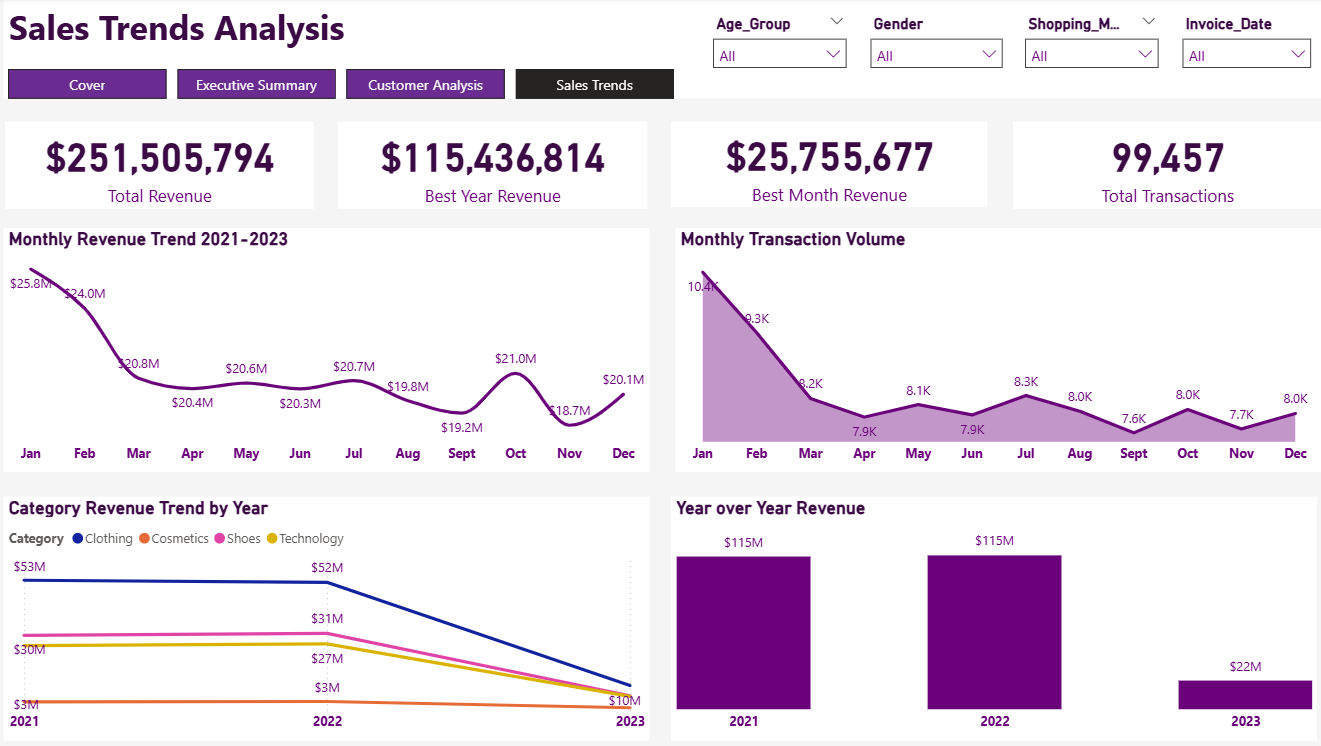

What the dashboard file says about the page in this screenshot:
{"tool":"powerbi","page":{"name":"Sales Trends","canvas":[1280,720],"ordinal":3},"visuals":[{"type":"textbox","box":[20.7,0,1239.1,78.1],"z":0},{"type":"lineChart","title":"Monthly Revenue Trend 2021-2023","fields":{"Y":["final_shopping.Total Revenue"],"Category":["final_shopping.Month Name"]},"box":[20.7,216.9,607.6,229.6],"z":1000},{"type":"clusteredColumnChart","title":"Year over Year Revenue","fields":{"Category":["final_shopping.Invoice_Date.Variation.Date Hierarchy.Year"],"Y":["final_shopping.Total Revenue"]},"box":[649,468.8,607.6,229.6],"z":2000},{"type":"areaChart","title":"Monthly Transaction Volume","fields":{"Y":["final_shopping.Total Transactions"],"Category":["final_shopping.Month Name"]},"box":[652.2,216.9,607.6,229.6],"z":3000},{"type":"lineChart","title":"Category Revenue Trend by Year","fields":{"Category":["final_shopping.Invoice_Date.Variation.Date Hierarchy.Year"],"Y":["final_shopping.Total Revenue"],"Series":["final_shopping.Category"]},"box":[20.7,468.8,607.6,229.6],"z":4000},{"type":"slicer","fields":{"Values":["final_shopping.Age_Group"]},"box":[596.4,6.4,145.1,67],"z":5000},{"type":"slicer","fields":{"Values":["final_shopping.Gender"]},"box":[769.2,6.4,145.1,67],"z":6000},{"type":"slicer","fields":{"Values":["final_shopping.Shopping_Mall"]},"box":[941.9,6.4,145.1,67],"z":7000},{"type":"slicer","fields":{"Values":["final_shopping.Invoice_Date"]},"box":[1114.7,6.4,145.1,67],"z":8000},{"type":"card","fields":{"Values":["final_shopping.Total Revenue"]},"box":[22.3,92.5,290,106.8],"z":9000},{"type":"card","fields":{"Values":["final_shopping.Best Year Revenue"]},"box":[335.3,92.5,290,106],"z":10000},{"type":"card","fields":{"Values":["final_shopping.Best Month Revenue"]},"box":[648.4,92.5,298.2,105.3],"z":11000},{"type":"card","fields":{"Values":["final_shopping.Total Transactions"]},"box":[969.6,92.5,290.2,106.8],"z":12000}]}

Visuals, with their boxes in screenshot pixels (x1, y1, x2, y2), scaled from the page's 1280x720 canvas onto the 1321x746 screenshot:
textbox: pyautogui.locateOnScreen(21, 0, 1300, 81)
"Monthly Revenue Trend 2021-2023" lineChart: pyautogui.locateOnScreen(21, 225, 648, 463)
"Year over Year Revenue" clusteredColumnChart: pyautogui.locateOnScreen(670, 486, 1297, 724)
"Monthly Transaction Volume" areaChart: pyautogui.locateOnScreen(673, 225, 1300, 463)
"Category Revenue Trend by Year" lineChart: pyautogui.locateOnScreen(21, 486, 648, 724)
slicer - final_shopping.Age_Group: pyautogui.locateOnScreen(616, 7, 765, 76)
slicer - final_shopping.Gender: pyautogui.locateOnScreen(794, 7, 944, 76)
slicer - final_shopping.Shopping_Mall: pyautogui.locateOnScreen(972, 7, 1122, 76)
slicer - final_shopping.Invoice_Date: pyautogui.locateOnScreen(1150, 7, 1300, 76)
card - final_shopping.Total Revenue: pyautogui.locateOnScreen(23, 96, 322, 206)
card - final_shopping.Best Year Revenue: pyautogui.locateOnScreen(346, 96, 645, 206)
card - final_shopping.Best Month Revenue: pyautogui.locateOnScreen(669, 96, 977, 205)
card - final_shopping.Total Transactions: pyautogui.locateOnScreen(1001, 96, 1300, 206)
